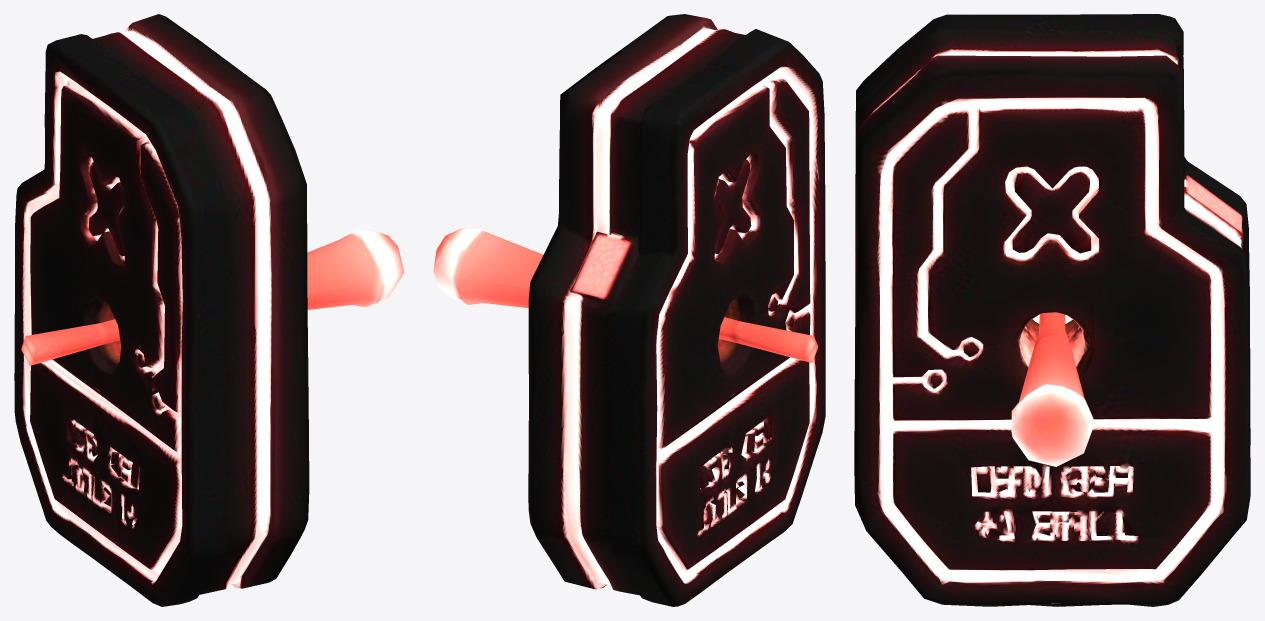
File: debuff_addball.glb
3 renders of one model, left to right at view 1: azimuth 30°, elevation 25°; view 2: azimuth 150°, elevation 25°; view 3: azimuth 270°, elevation 25°, orthographic. The views are drawn at different scales.
Visible parts, largest first — view 1: tripo_node_16c706b1-6da3-4774-9963-a27e0ea0d3a2; view 2: tripo_node_16c706b1-6da3-4774-9963-a27e0ea0d3a2; view 3: tripo_node_16c706b1-6da3-4774-9963-a27e0ea0d3a2.
Boxes of the visible parts, x1,y1,x2,y2 form: tripo_node_16c706b1-6da3-4774-9963-a27e0ea0d3a2: (14,14,404,606); tripo_node_16c706b1-6da3-4774-9963-a27e0ea0d3a2: (433,14,825,606); tripo_node_16c706b1-6da3-4774-9963-a27e0ea0d3a2: (854,14,1250,606).
Bounding box in the file's own units: 0.7705 × 0.9798 × 0.6539.
Materials: 1 (1 with a texture image).
